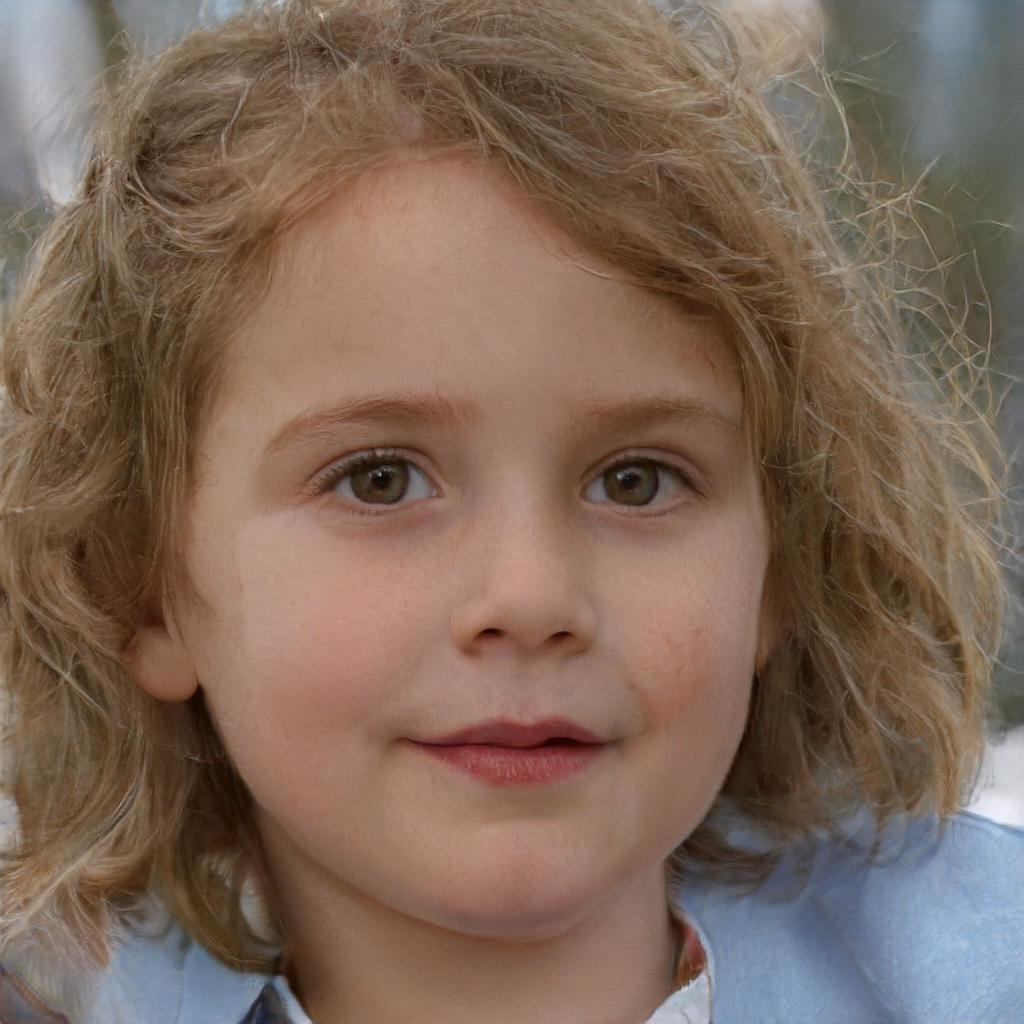face: (195, 159, 769, 935)
